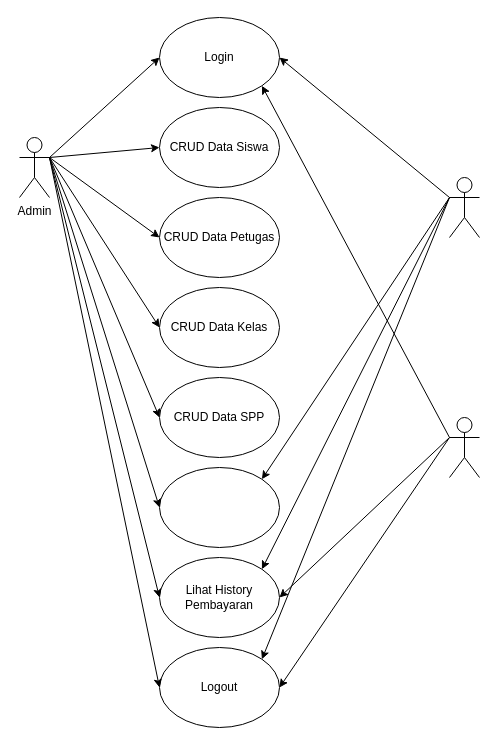
This 503x745 diagram has some shape labels left out. The shapes that lost their labels are listed below. From the top down, each one's box as (x1, y1, x2, y2) in pixels, then its label:
(448, 176, 480, 238): Petugas
(448, 416, 480, 478): Siswa
(158, 466, 280, 548): Entry Trans. Pembayaran
